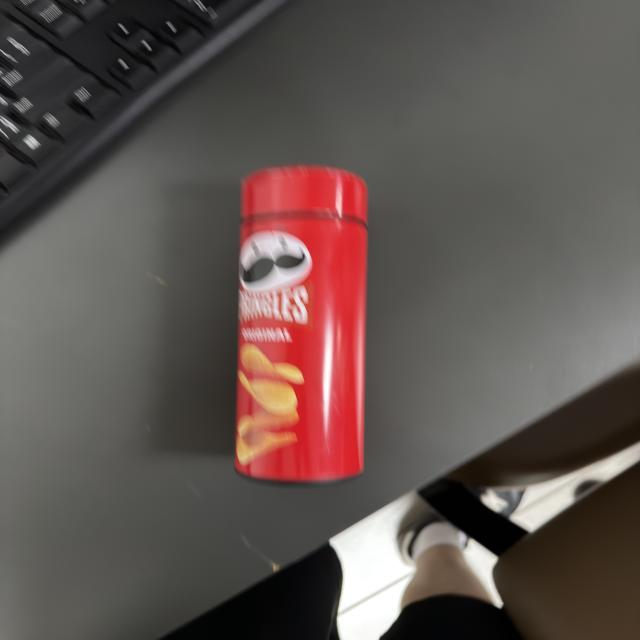water bottle: (232, 162, 370, 488)
